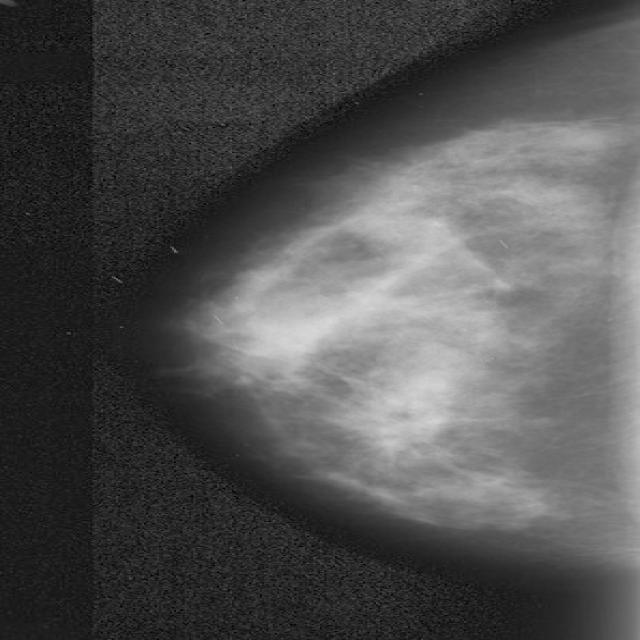tumour: (333, 368, 453, 449)
